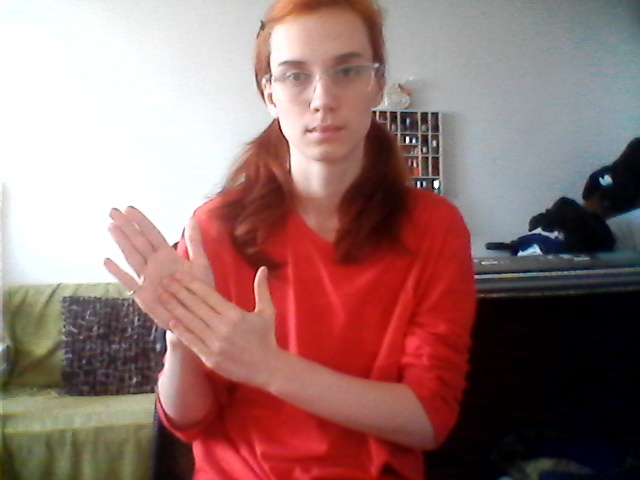m: (97, 198, 283, 396)
